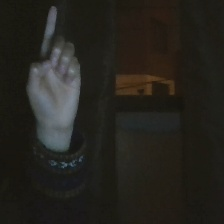D: (18, 4, 96, 133)
